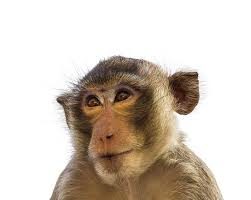monkey: (29, 43, 225, 167)
